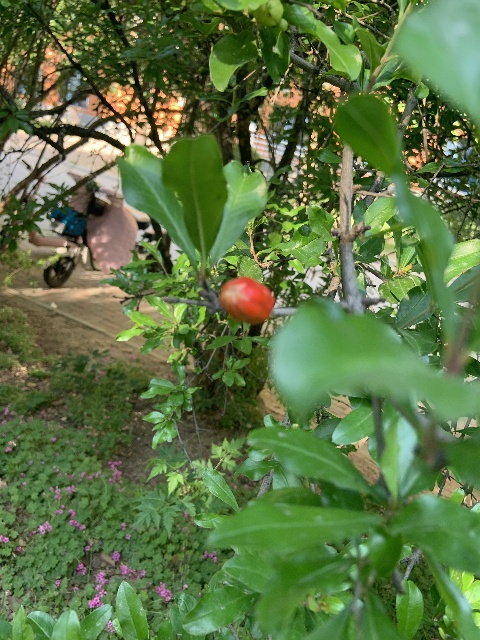bud: (220, 276, 274, 325)
